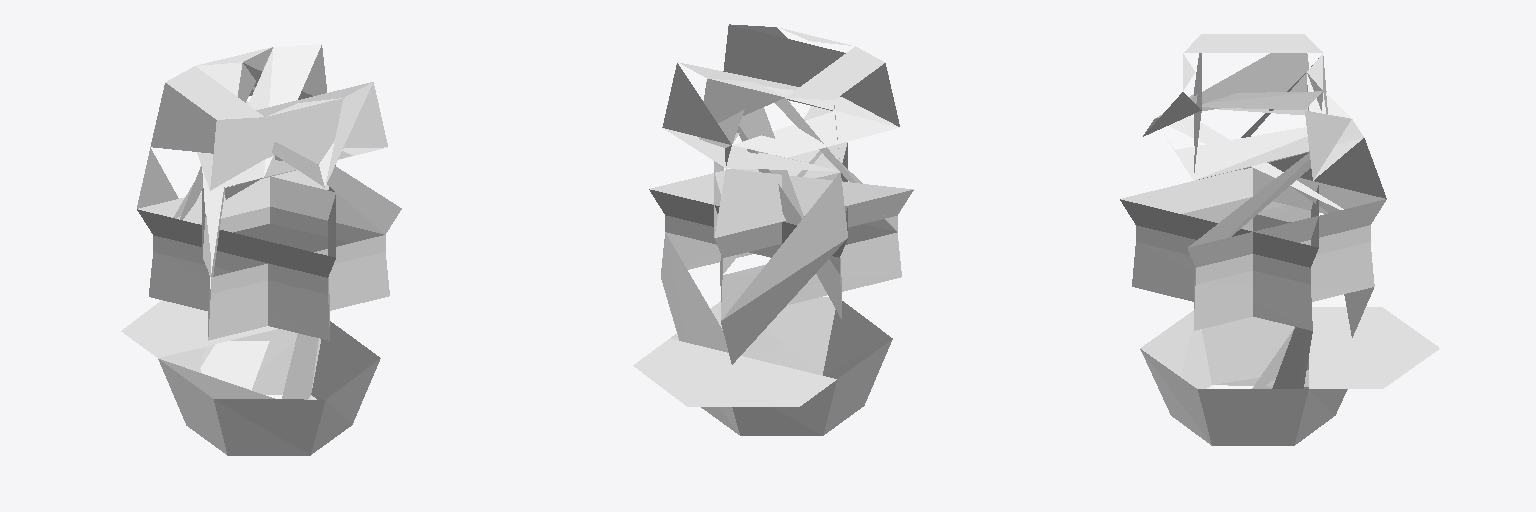
The model's file is LTYKE.obj.
The picture shows the model from 3 angles: view 1: azimuth 30°, elevation 25°; view 2: azimuth 150°, elevation 25°; view 3: azimuth 270°, elevation 25°; orthographic projection.
Visible parts, largest first — view 1: LTYKE_node00_face01, LTYKE_node00_face00; view 2: LTYKE_node00_face01, LTYKE_node00_face00; view 3: LTYKE_node00_face01, LTYKE_node00_face00.
Part boxes in pixels (bbox=[...]): LTYKE_node00_face01: bbox=[121, 44, 401, 455]; LTYKE_node00_face00: bbox=[122, 300, 325, 454]; LTYKE_node00_face01: bbox=[633, 24, 913, 435]; LTYKE_node00_face00: bbox=[671, 297, 892, 406]; LTYKE_node00_face01: bbox=[1120, 34, 1439, 445]; LTYKE_node00_face00: bbox=[1140, 308, 1438, 388].
Size of the model in its own units: 112 by 197 by 156.